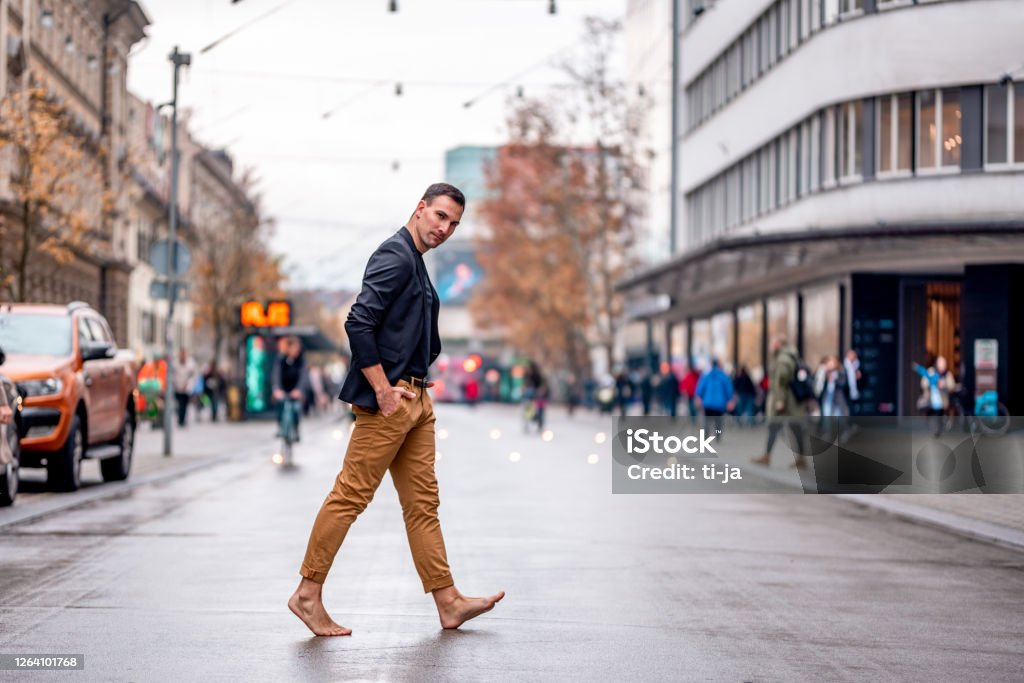car: (1, 294, 143, 495)
person: (282, 181, 507, 642)
